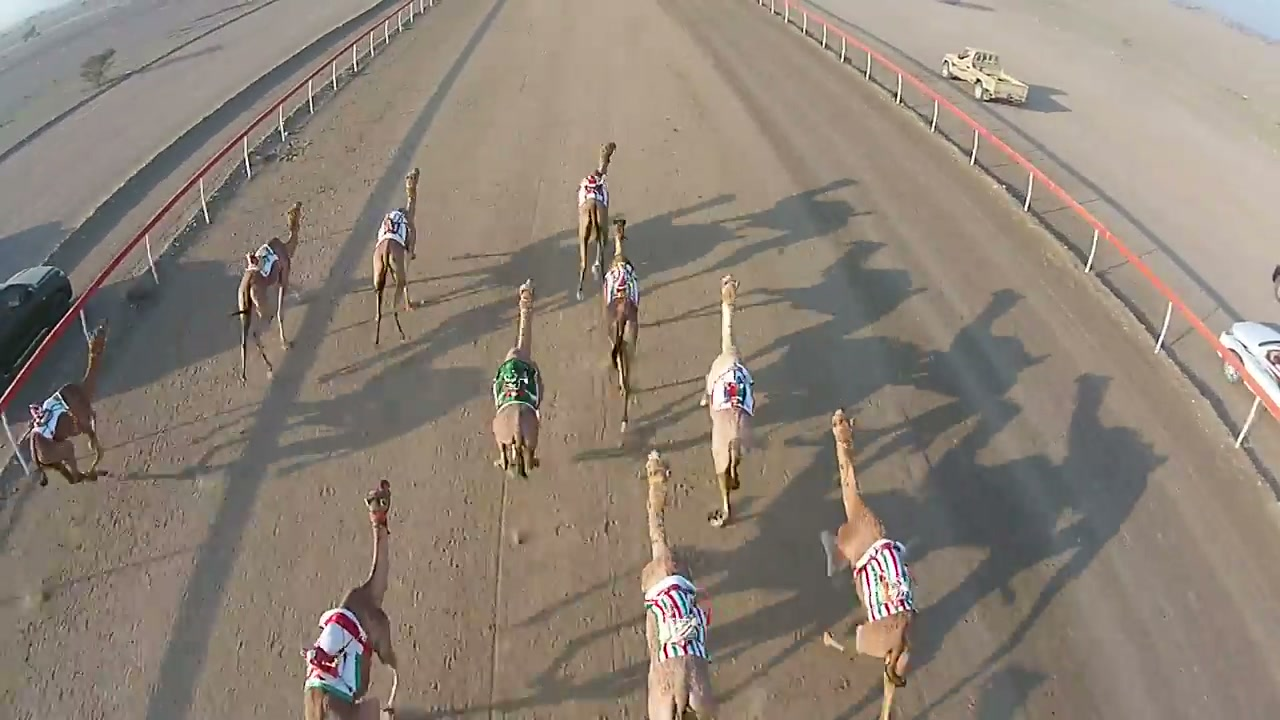animal_footprint: (15, 347, 255, 697), (522, 420, 644, 718), (384, 433, 497, 719)
